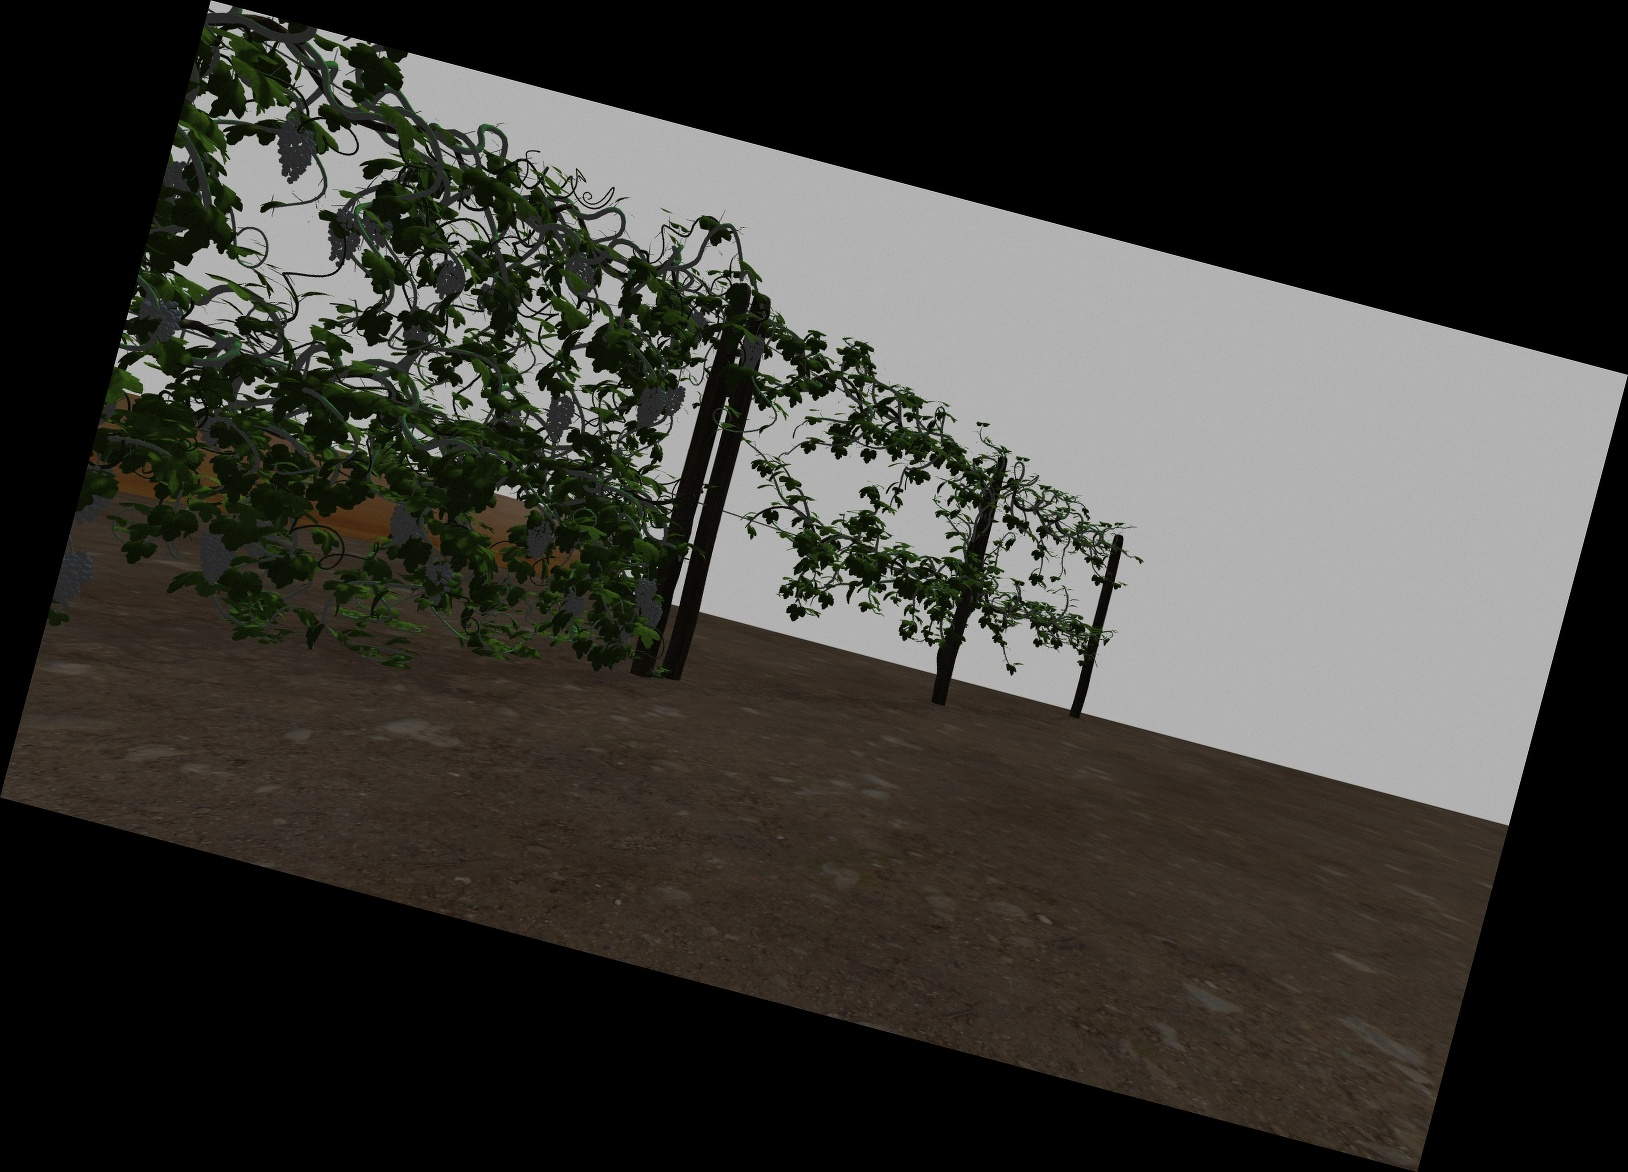grape: (276, 123, 313, 182), (137, 298, 179, 349), (61, 549, 92, 609), (198, 530, 233, 585), (327, 209, 359, 266), (388, 504, 417, 551), (637, 386, 664, 430), (547, 394, 573, 437), (361, 216, 393, 250), (526, 520, 552, 560), (435, 263, 463, 300), (739, 335, 763, 368), (425, 560, 454, 585), (641, 601, 662, 630), (636, 577, 655, 608), (564, 593, 586, 618), (664, 387, 685, 413)
